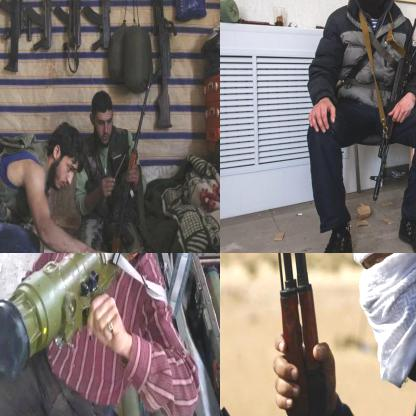rifle: (0, 253, 219, 380), (220, 253, 336, 415), (107, 69, 160, 252), (368, 17, 415, 203), (145, 0, 179, 132), (83, 0, 116, 54), (0, 0, 23, 73), (54, 0, 85, 52), (27, 0, 54, 52)
